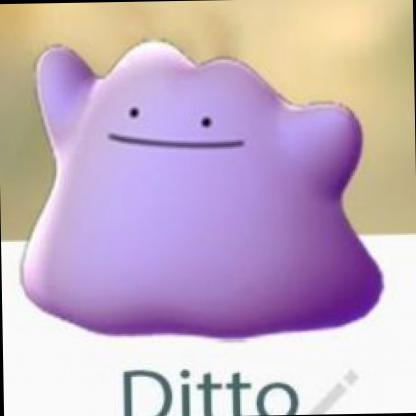Ditto: (1, 9, 416, 416)
